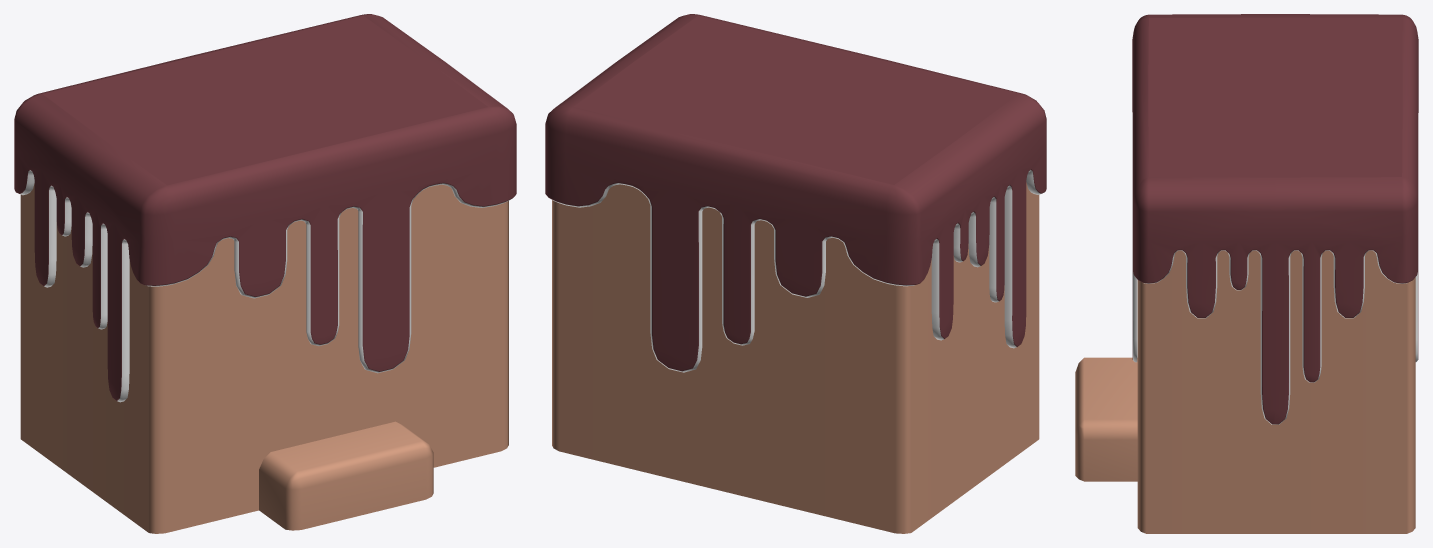
File: SM_Mound.fbx
3 renders of one model, left to right at view 1: azimuth 30°, elevation 25°; view 2: azimuth 150°, elevation 25°; view 3: azimuth 270°, elevation 25°, orthographic.
Visible parts, largest first — view 1: SM_Mound; view 2: SM_Mound; view 3: SM_Mound.
Boxes of the visible parts, x1,y1,x2,y2 form: SM_Mound: (14, 14, 516, 533); SM_Mound: (545, 14, 1046, 533); SM_Mound: (1075, 14, 1418, 533).
Size of the model in its own units: 1334 by 1162 by 1040.
